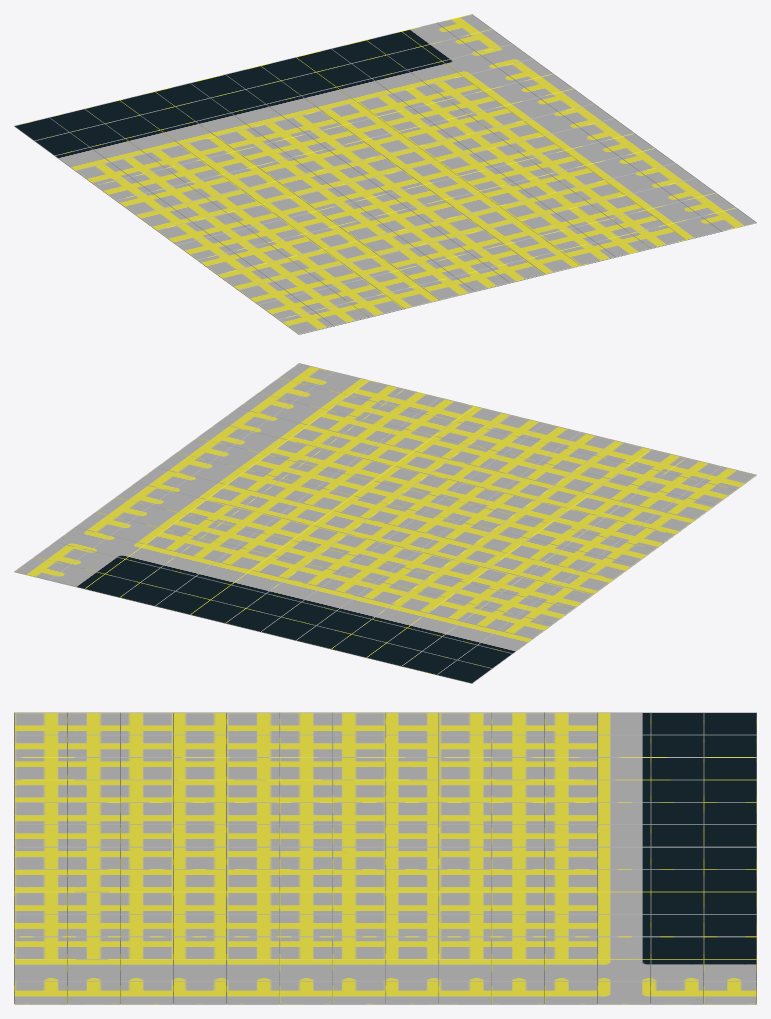
Rendered from Floor.obj.
3 renders of one model, top to bottom at view 1: azimuth 30°, elevation 25°; view 2: azimuth 150°, elevation 25°; view 3: azimuth 270°, elevation 25°, orthographic. The views are drawn at different scales.
Parts seen in each view (by area): view 1: GridFloor; view 2: GridFloor; view 3: GridFloor.
Boxes of the visible parts, x1,y1,x2,y2 form: GridFloor: [14, 14, 756, 334]; GridFloor: [14, 363, 756, 683]; GridFloor: [14, 712, 756, 1004].
Bounding box in the file's own units: 26.04 × 0.04 × 28.02.
1 material, 1 textured.
